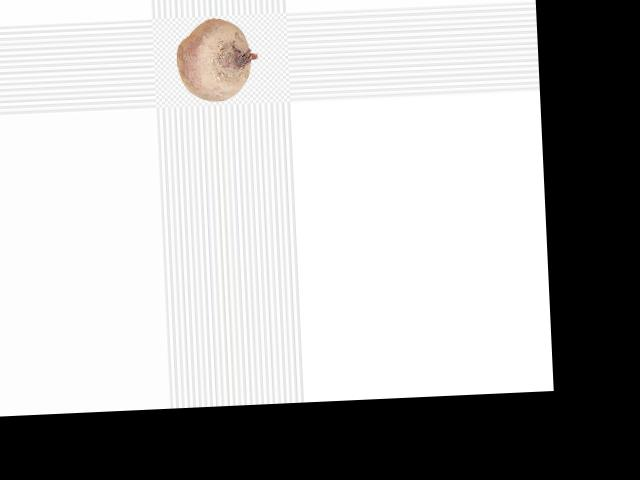beet: (175, 16, 260, 102)
